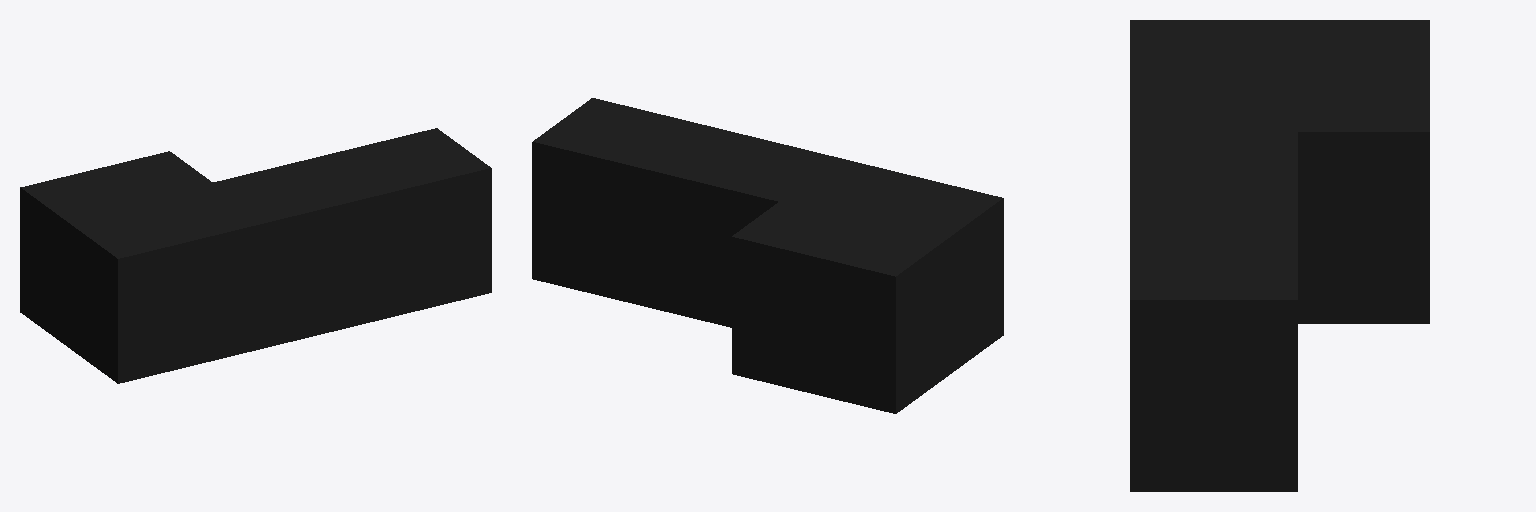
URDF robot description (base):
<robot name="base" >
	 <link
		  name="base_ur3">
		  <inertial>
		    <origin
		      xyz="0 0 0"
		      rpy="0 0 0" />
		    <mass
		      value="0" />
		    <inertia
		      ixx="0"
		      ixy="0"
		      ixz="0"
		      iyy="0"
		      iyz="0"
		      izz="0" />
		  </inertial>
		  <visual>
		    <origin
		      xyz="0 0 0"
		      rpy="0 0 0" />
		    <geometry>
		      <mesh
		        filename="package://urdf_tutorial_adding/meshes/base_ur3_stl.STL" />
		    </geometry>
		    <material
		      name="">
		      <color
		        rgba="0.150 0.150 0.150 1" />
		    </material>
		  </visual>
		  <collision>
		    <origin
		      xyz="0 0 0"
		      rpy="0 0 0" />
		    <geometry>
		      <mesh
		        filename="package://urdf_tutorial_adding/meshes/base_ur3_stl.STL" />
		    </geometry>
		  </collision>
		</link>
</robot>

--- What the picture shows (computed from the rendered views, not written in the file) ---
The picture shows the robot from 3 angles, left to right: view 1: azimuth 30°, elevation 25°; view 2: azimuth 150°, elevation 25°; view 3: azimuth 270°, elevation 25°; orthographic projection.
Model base with 1 links and 0 joints (none), rooted at base_ur3, posed all joints at 0.
Visible links, largest first — view 1: base_ur3; view 2: base_ur3; view 3: base_ur3.
Boxes of the visible links, x1,y1,x2,y2 form: base_ur3: [20, 128, 491, 383]; base_ur3: [532, 98, 1003, 413]; base_ur3: [1130, 20, 1429, 491].
Size in the robot's own frame: 1.5 by 0.68 by 0.48 metres.
1 mesh visuals loaded from 1 distinct referenced files (1 binary STL).